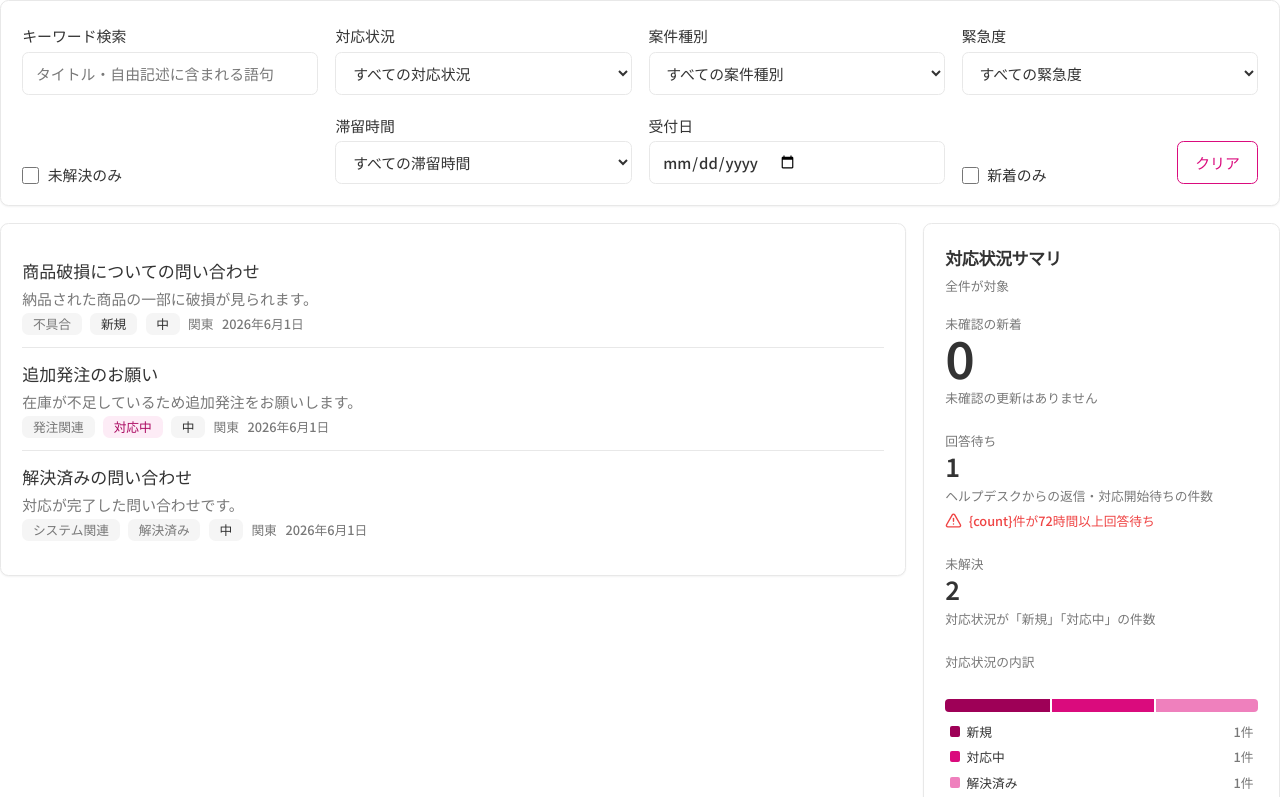
Scenario: InquiryListClient › キーワードを入力すると一致する問い合わせのみ表示される
Type "破損" into the field labelled "キーワード検索" at x=170, y=73, box [22, 52, 318, 94]
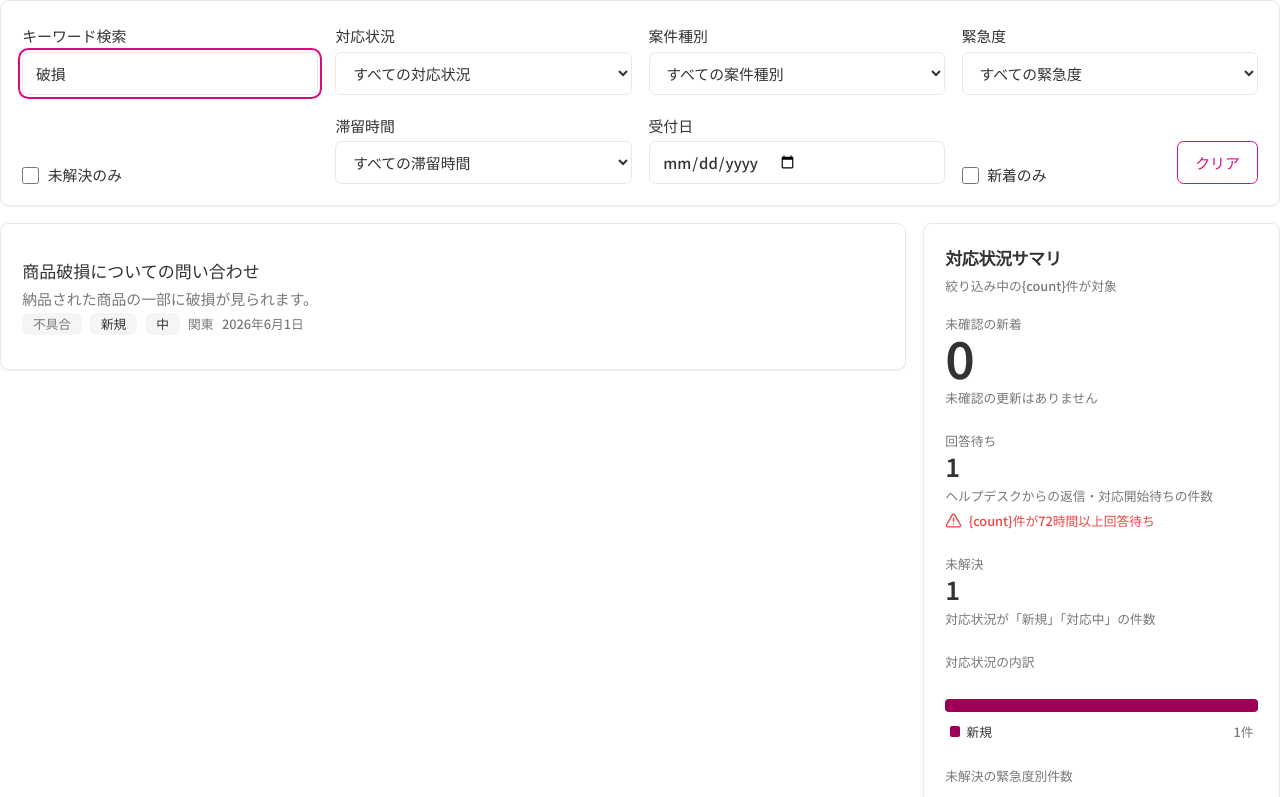
expect the link "商品破損についての問い合わせ" is shown: met, box [22, 258, 260, 284]
expect the link "追加発注のお願い" is gone: met
